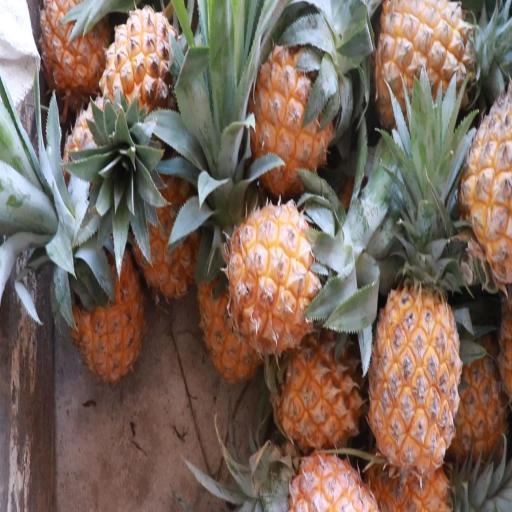Pineapple - v8 v1: (365, 245, 461, 477), (222, 190, 327, 360), (243, 31, 338, 198), (66, 204, 150, 390), (129, 129, 207, 305), (370, 0, 475, 128), (452, 78, 512, 294), (270, 336, 370, 459), (95, 5, 181, 141), (37, 0, 118, 111)
